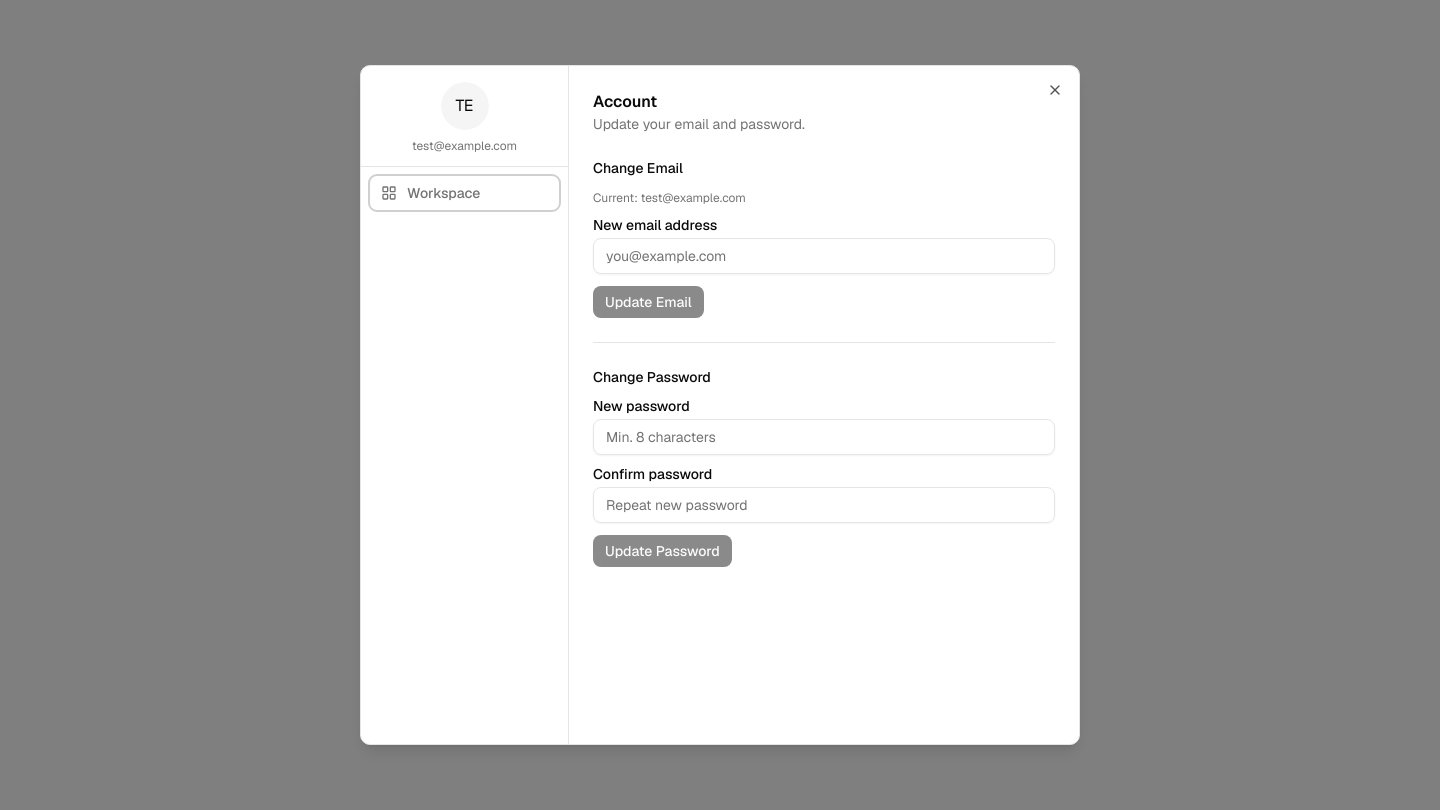
AccountSettingsModal — password change › shows error when passwords do not match
The image size is (1440, 810).
Expected: the dialog is shown, [360,65,1080,745]
Type "password123" into the password field with placeholder "Min. 8 characters". click: (824, 437)
box: [593,419,1055,455]
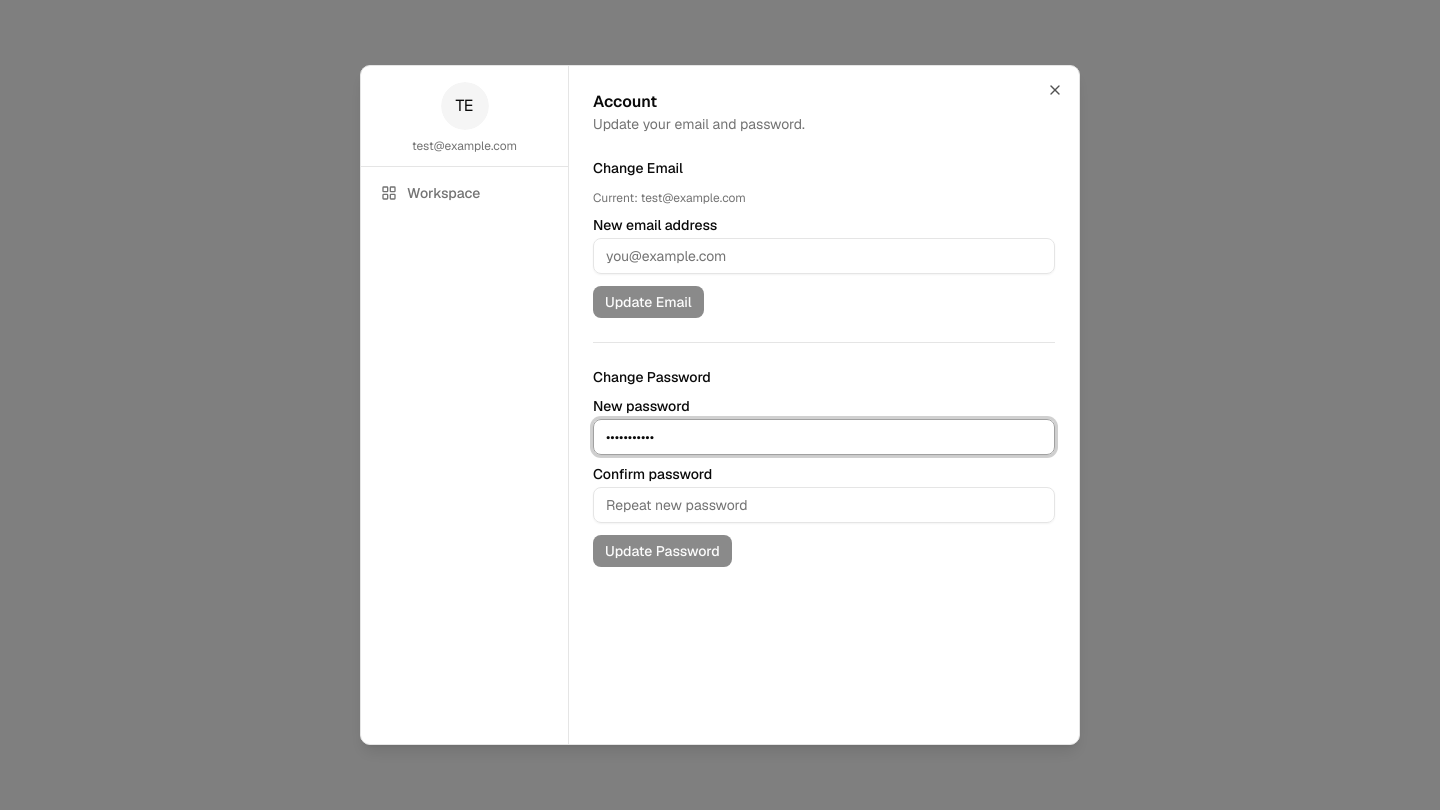
Type "different456" into the password field with placeholder "Repeat new password". click: (824, 505)
box: [593,487,1055,523]
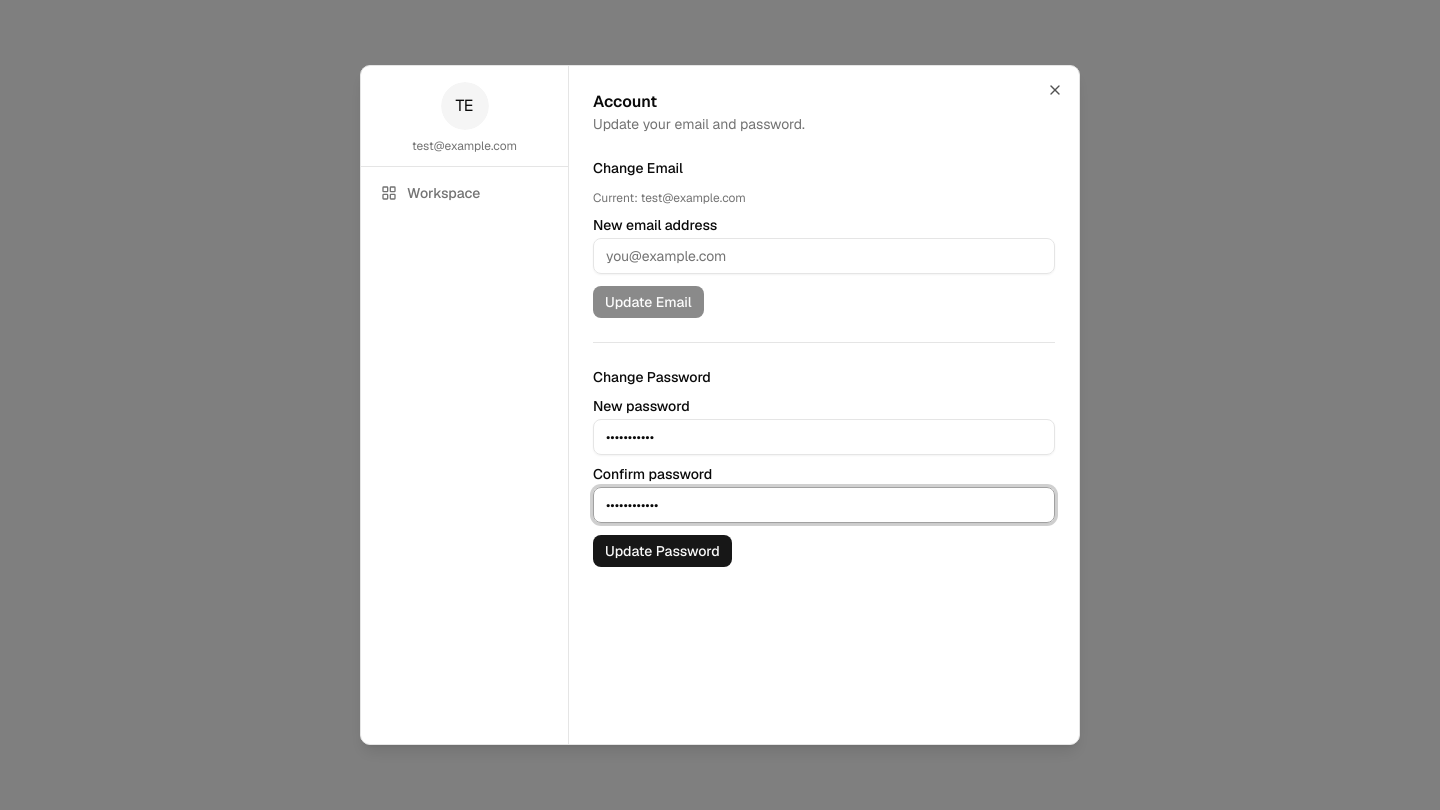
Submit the form that starts with "Change Password", box [593,367,1055,567]
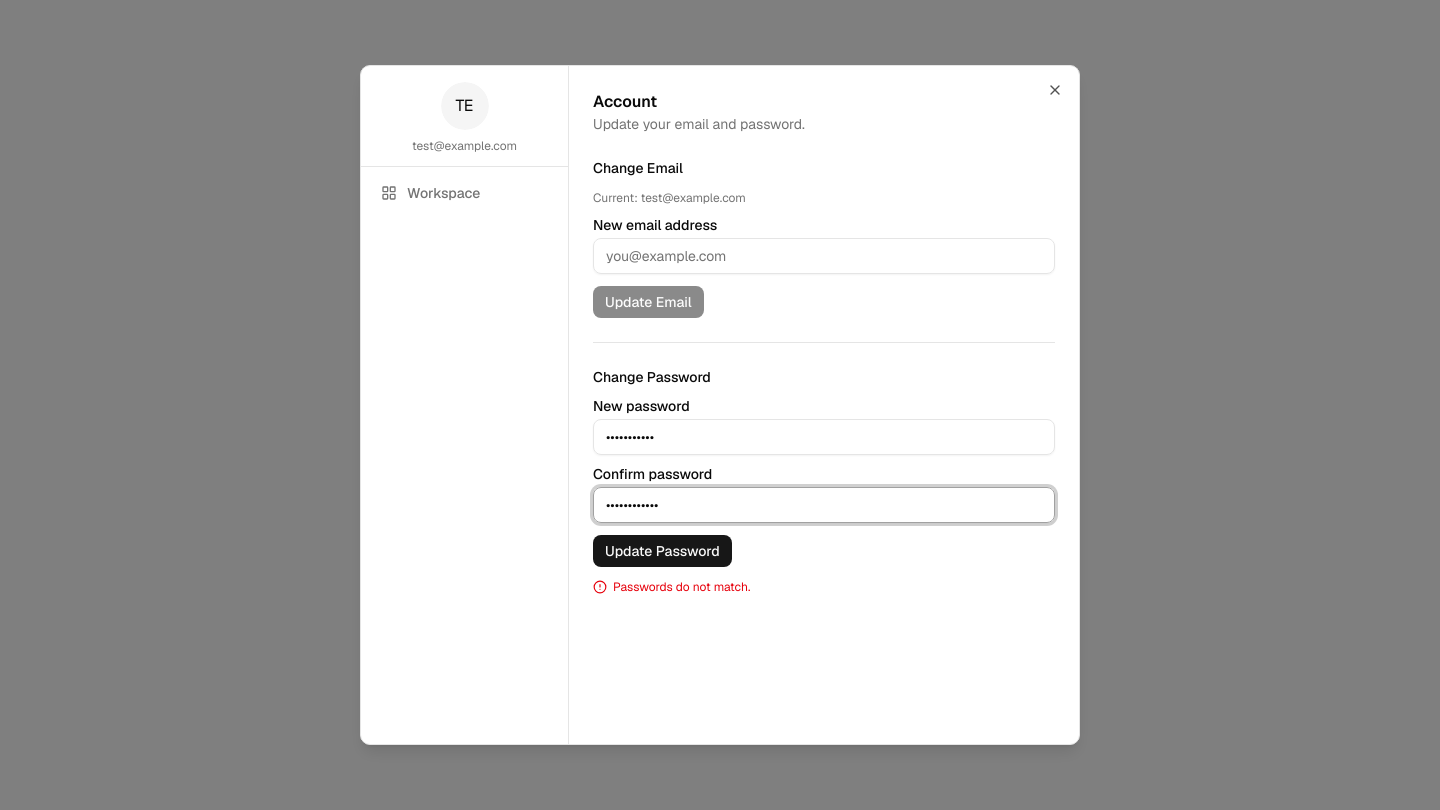
Expected: the text "Passwords do not match." is shown, [593,579,750,595]
